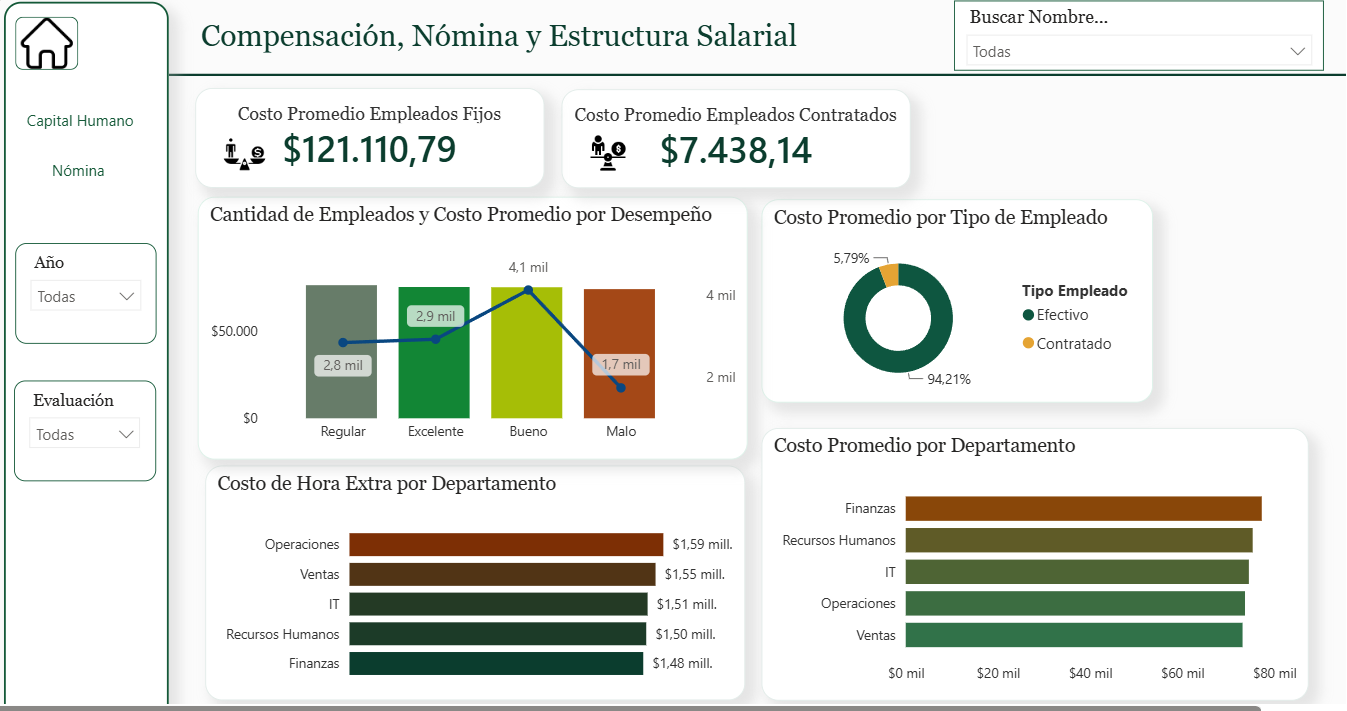

What the dashboard file says about the page in this screenshot:
{"tool":"powerbi","page":{"name":"Nómina","canvas":[1280,720],"ordinal":1},"visuals":[{"type":"shape","box":[4.4,3.3,146.7,671.1],"z":0,"group":"g1"},{"type":"actionButton","box":[12.2,144.6,111.1,31.1],"z":0},{"type":"actionButton","box":[11.1,175.7,111.1,31.1],"z":1000},{"type":"textbox","box":[174.4,13.3,631.1,40],"z":2000},{"type":"shape","box":[151.1,62.2,1128.9,12.2],"z":3000},{"type":"cardVisual","fields":{"Data":["medidas.Costo_Promedio_Efectivos"]},"box":[174,79.6,310,88.9],"z":4000,"group":"g3"},{"type":"cardVisual","fields":{"Data":["medidas.Costo_Promedio_Contratados_Total"]},"box":[499.6,80.7,310,88],"z":5000,"group":"g2"},{"type":"donutChart","title":"Costo Promedio por Tipo de Empleado","fields":{"Category":["Dim_Empleado.tipo_empleado"],"Y":["medidas.Costo_Promedio_Global_Total"]},"box":[677.6,178.9,347.8,181.1],"z":6000},{"type":"clusteredBarChart","title":"Costo de Hora Extra por Departamento","fields":{"Category":["Dim_Departamento.departamento_descripcion"],"Y":["medidas.Costo_Hora_Extra"]},"box":[183.1,415.6,480,208.9],"z":7000},{"type":"lineStackedColumnComboChart","title":"Cantidad de Empleados y Costo Promedio por Desempeño","fields":{"Category":["Fact_Evaluación.evaluación"],"Y":["medidas.Costo_Promedio_Global_Total"],"Y2":["medidas.TotalEmpleados"]},"box":[176.4,176.7,488.9,233.3],"z":8000},{"type":"slicer","fields":{"Values":["Dim_Empleado.nombre_completo"]},"box":[848.9,2.2,328.9,62.2],"z":9000},{"type":"slicer","fields":{"Values":["Dim_Año.Año"]},"box":[14.3,217.8,125.5,90],"z":9000,"group":"g1"},{"type":"clusteredBarChart","title":"Costo Promedio por Departamento","fields":{"Category":["Dim_Departamento.departamento_descripcion"],"Y":["medidas.Costo_Promedio_Global_Total"]},"box":[677.6,382.2,486.7,242.2],"z":10000},{"type":"group","id":"g1","title":"Grupo 6","box":[4.4,3.3,146.7,671.1],"z":11000},{"type":"slicer","fields":{"Values":["Fact_Evaluación.evaluación"]},"box":[12.9,339.5,126.1,90],"z":11000,"group":"g1"},{"type":"actionButton","box":[12.2,137.8,116.7,31.1],"z":12000},{"type":"actionButton","box":[14.4,93.3,115.6,31.1],"z":13000},{"type":"image","box":[191.1,118.9,55,40],"z":13001,"group":"g3"},{"type":"image","box":[512.9,117.4,55.6,40],"z":13002,"group":"g2"},{"type":"group","id":"g2","title":"Grupo 1","box":[499.6,80.7,310,88],"z":13003},{"type":"group","id":"g3","title":"Grupo 2","box":[174,79.6,310,88.9],"z":13004},{"type":"image","box":[14.1,17,55.8,47.5],"z":13011,"group":"g1"}]}

Visuals, with their boxes on the page's 1280x720 design canvas (x1, y1, x2, y2). These are canvas units, not pixel positions in the 1347x711 screenshot, which may show the page scaled, cropped or inside an application window:
shape: x1=4 y1=3 x2=151 y2=674
actionButton: x1=12 y1=145 x2=123 y2=176
actionButton: x1=11 y1=176 x2=122 y2=207
textbox: x1=174 y1=13 x2=806 y2=53
shape: x1=151 y1=62 x2=1280 y2=74
cardVisual - medidas.Costo_Promedio_Efectivos: x1=174 y1=80 x2=484 y2=168
cardVisual - medidas.Costo_Promedio_Contratados_Total: x1=500 y1=81 x2=810 y2=169
"Costo Promedio por Tipo de Empleado" donutChart: x1=678 y1=179 x2=1025 y2=360
"Costo de Hora Extra por Departamento" clusteredBarChart: x1=183 y1=416 x2=663 y2=624
"Cantidad de Empleados y Costo Promedio por Desempeño" lineStackedColumnComboChart: x1=176 y1=177 x2=665 y2=410
slicer - Dim_Empleado.nombre_completo: x1=849 y1=2 x2=1178 y2=64
slicer - Dim_Año.Año: x1=14 y1=218 x2=140 y2=308
"Costo Promedio por Departamento" clusteredBarChart: x1=678 y1=382 x2=1164 y2=624
"Grupo 6" group: x1=4 y1=3 x2=151 y2=674
slicer - Fact_Evaluación.evaluación: x1=13 y1=340 x2=139 y2=430
actionButton: x1=12 y1=138 x2=129 y2=169
actionButton: x1=14 y1=93 x2=130 y2=124
image: x1=191 y1=119 x2=246 y2=159
image: x1=513 y1=117 x2=568 y2=157
"Grupo 1" group: x1=500 y1=81 x2=810 y2=169
"Grupo 2" group: x1=174 y1=80 x2=484 y2=168
image: x1=14 y1=17 x2=70 y2=64
